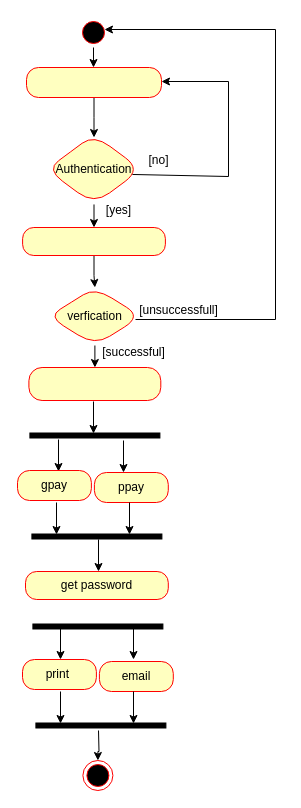
Image size: 301x808. Some labels were removed from this diagram. Here are the shapes that lost their labels. From the top down, the centre of each, then its label:
At pixel 94 82: "login".
At pixel 93 241: "fill the deatils".
At pixel 94 383: "pay ticket bill".
